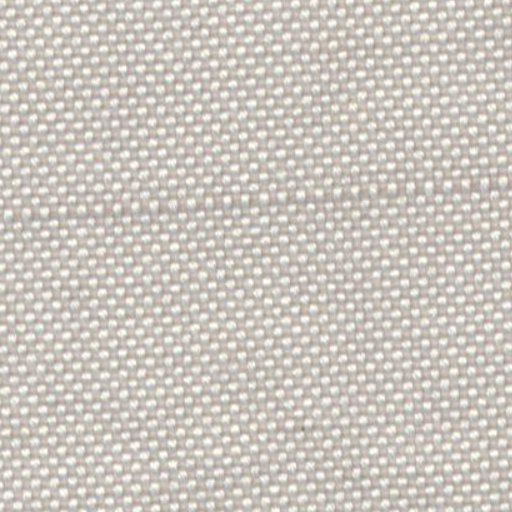TuoSha: (12, 158, 496, 236)
